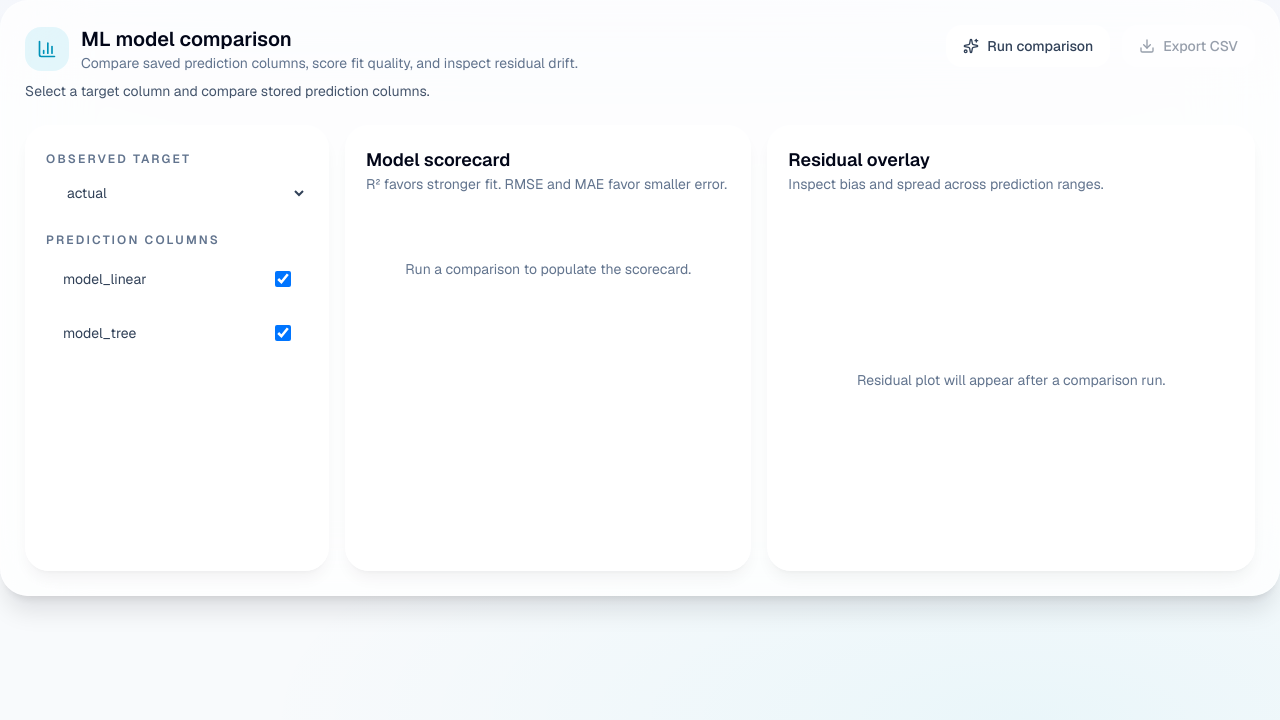
Test case: ModelComparison › loads metrics and renders a residual plot for the best model
The image size is (1280, 720).
Click the button "Run comparison" at (1028, 46), box [946,25,1110,67]
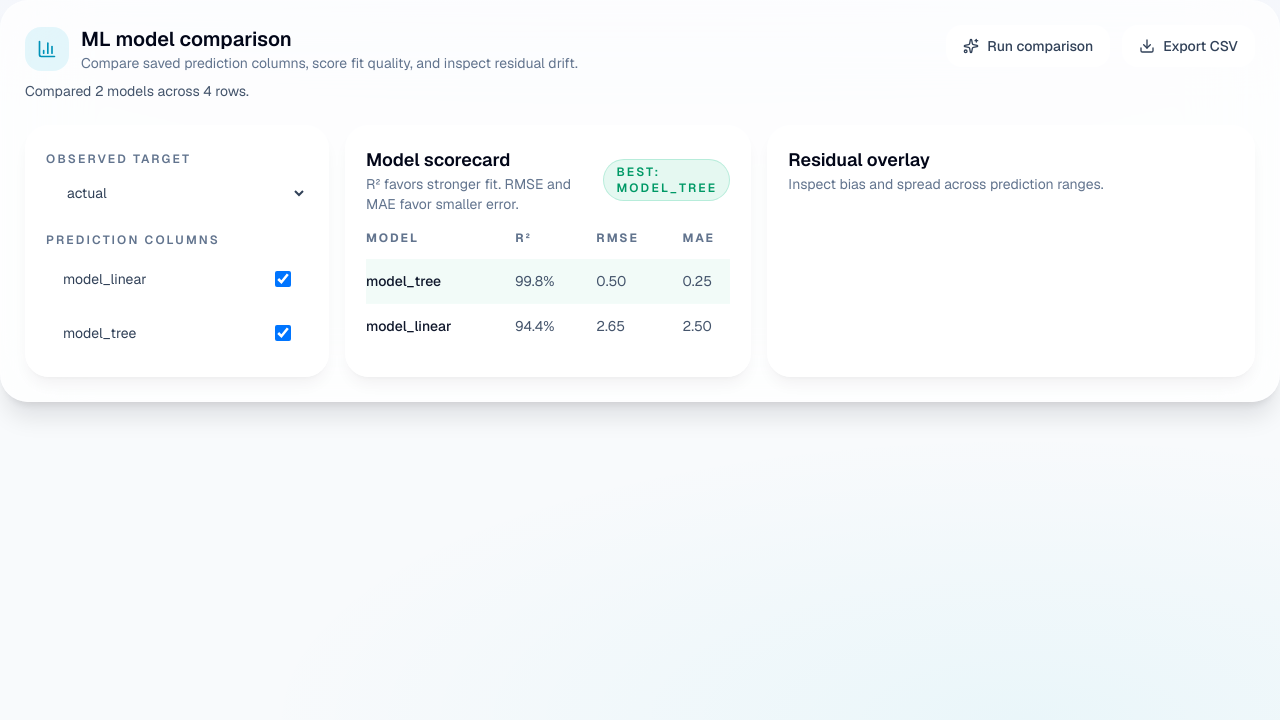
expect the text "Best: model_tree" is shown: met, box [603,159,730,201]
